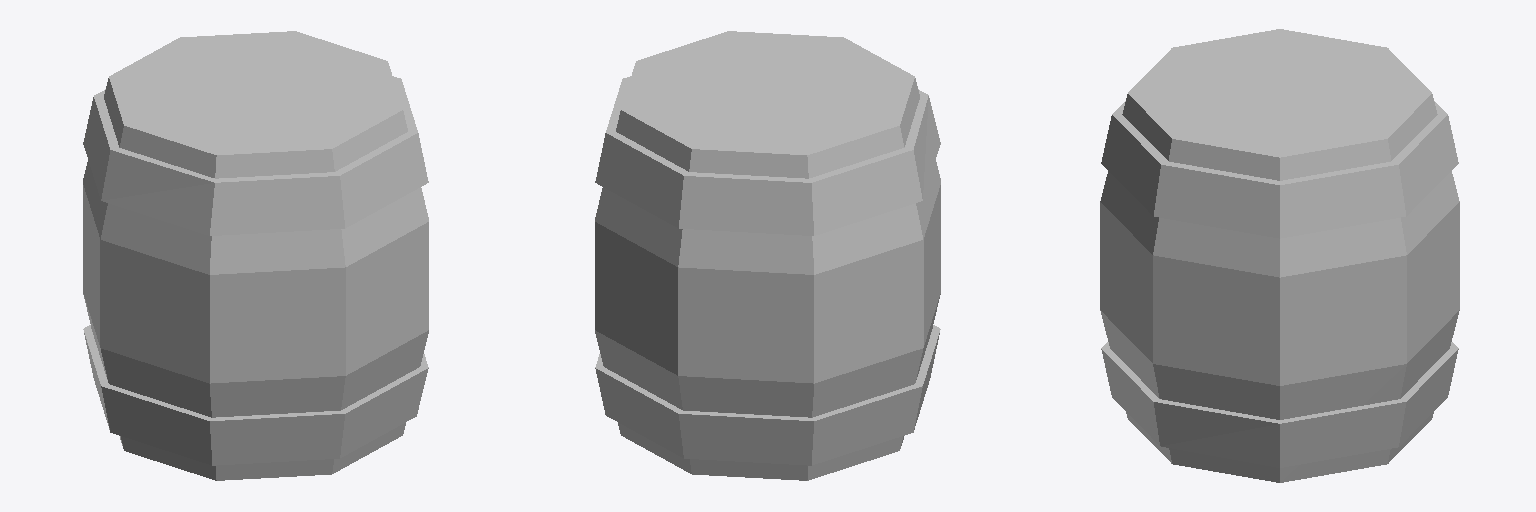
File: hcmwbarrel.obj
3 views of the same model, side by side, from view 1: azimuth 30°, elevation 25°; view 2: azimuth 150°, elevation 25°; view 3: azimuth 270°, elevation 25° (orthographic).
Visible parts, largest first — view 1: barrel, barrel_hoop1, barrel_hoop2; view 2: barrel, barrel_hoop1, barrel_hoop2; view 3: barrel, barrel_hoop1, barrel_hoop2.
Part boxes in pixels (x1,y1,x2,y2): barrel: (83,31,428,480); barrel_hoop1: (83,76,428,235); barrel_hoop2: (83,325,428,465); barrel: (595,31,940,480); barrel_hoop1: (595,76,940,235); barrel_hoop2: (595,325,940,465); barrel: (1100,29,1459,482); barrel_hoop1: (1101,101,1458,238); barrel_hoop2: (1101,342,1458,467).
Size of the model in its own units: 1 by 1 by 1.